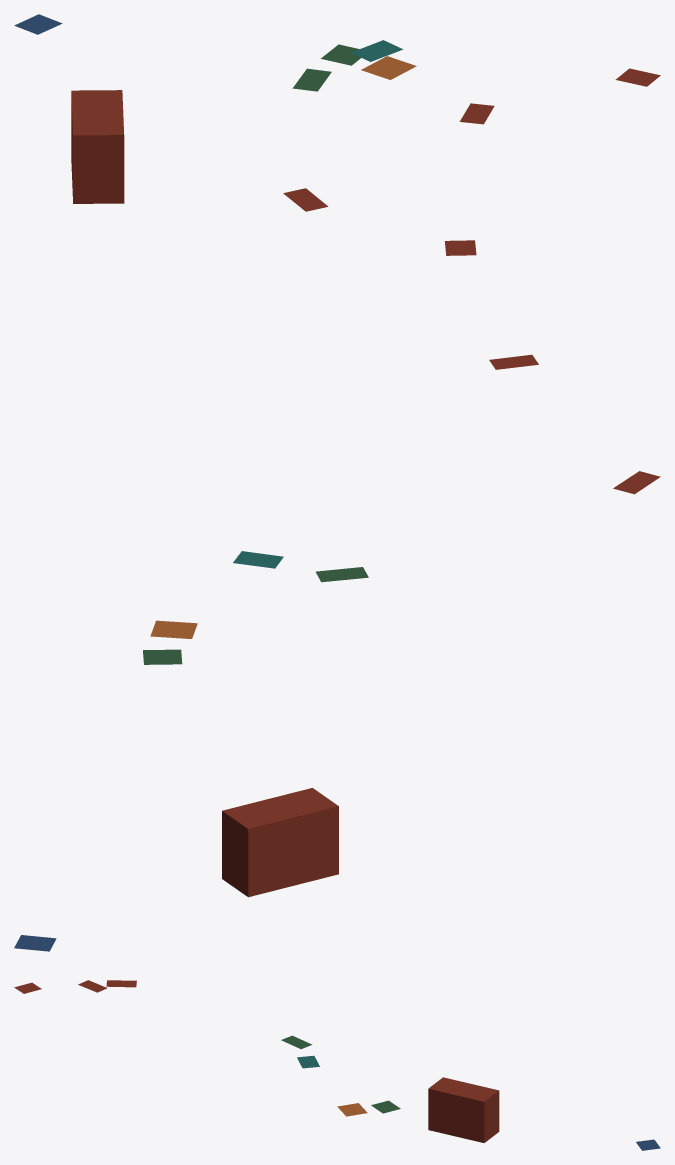
Rendered from far-13-6842-3719.1d31a76b.glb.
3 renders of one model, top to bottom at view 1: azimuth 30°, elevation 25°; view 2: azimuth 150°, elevation 25°; view 3: azimuth 270°, elevation 25°, orthographic. The views are drawn at different scales.
Bounding box in the file's own units: 89.54 × 89.6 × 269.
